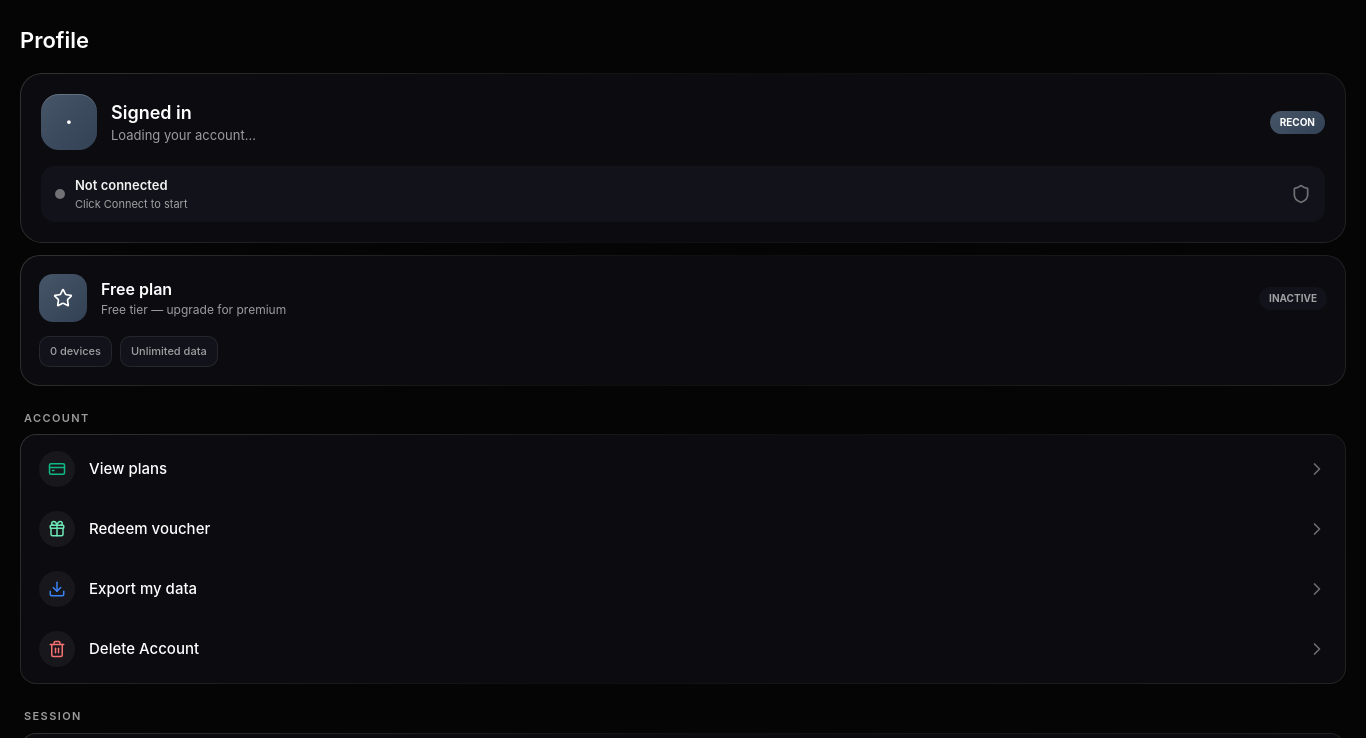
Test case: Profile › a busy voucher service says so, and how long to wait
The width and height of the screenshot is (1366, 738).
Click the button "Redeem voucher".
click(57, 529)  # box [25,499,1341,559]
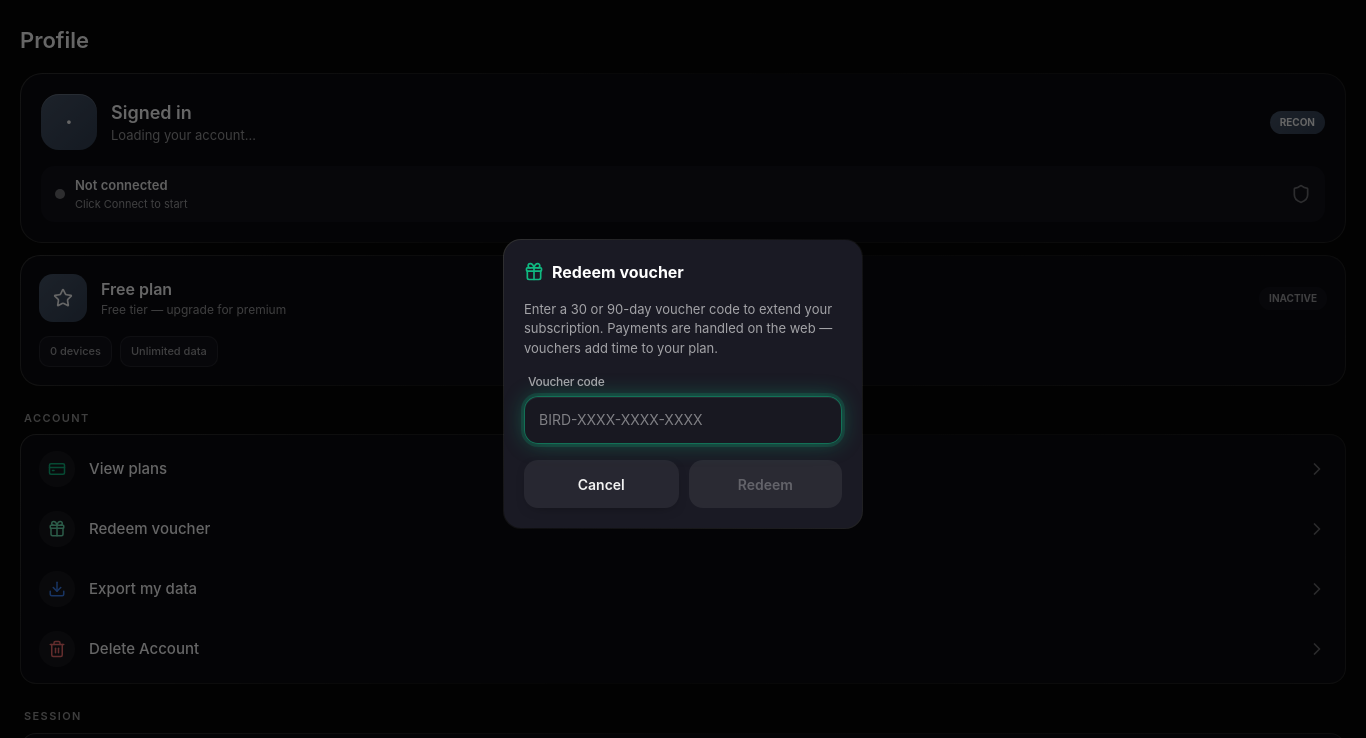
Type "BIRD-AAAA-BBBB-CCCC" into the field labelled "Voucher code".
click(683, 420); type("BIRD-AAAA-BBBB-CCCC")  # box [539,410,827,430]
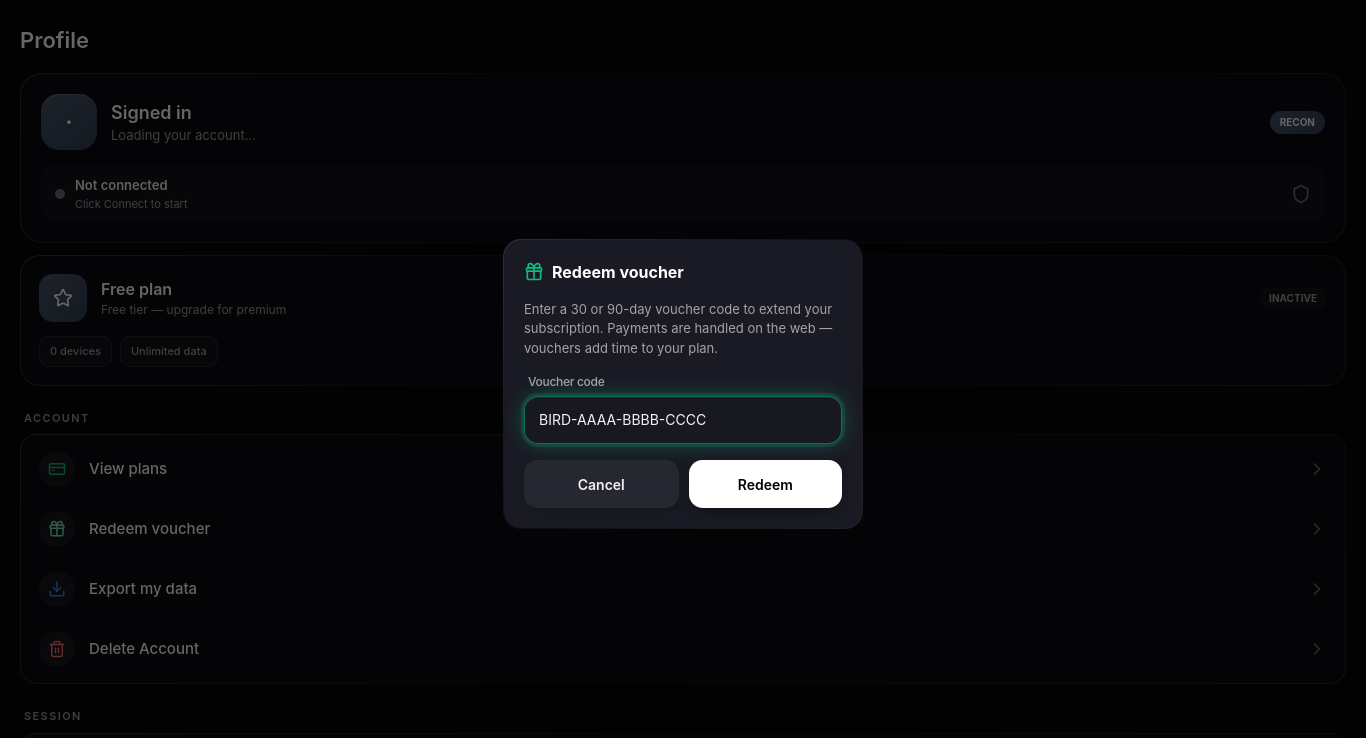
Click the button "Redeem".
click(765, 484)  # box [689,460,842,508]
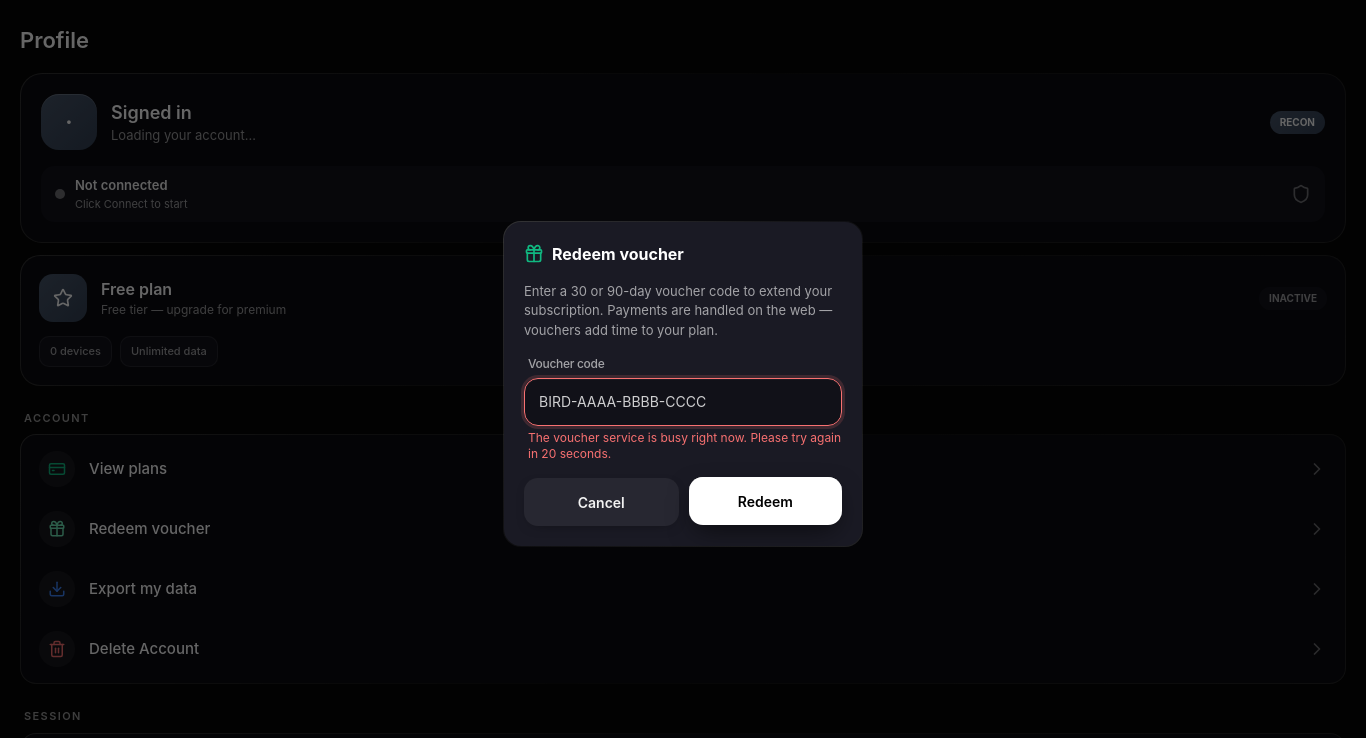
Now the text "The voucher service is busy right now. Please try again in 20 seconds." is shown, box [524,430,842,462]
